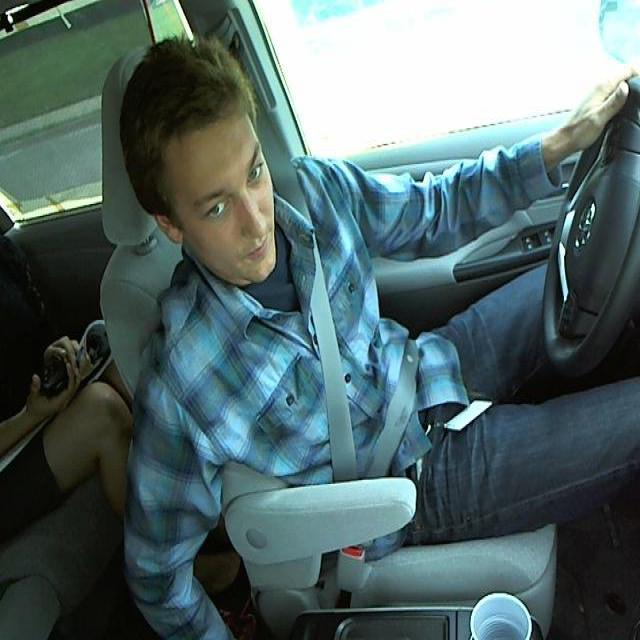seatbelt: (285, 240, 422, 472)
